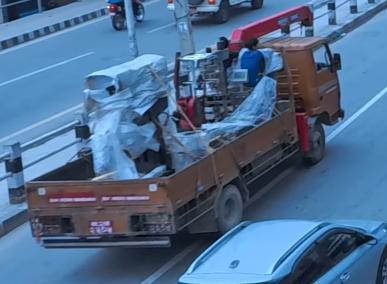car: (184, 214, 387, 284)
mini_truck: (17, 32, 349, 237)
